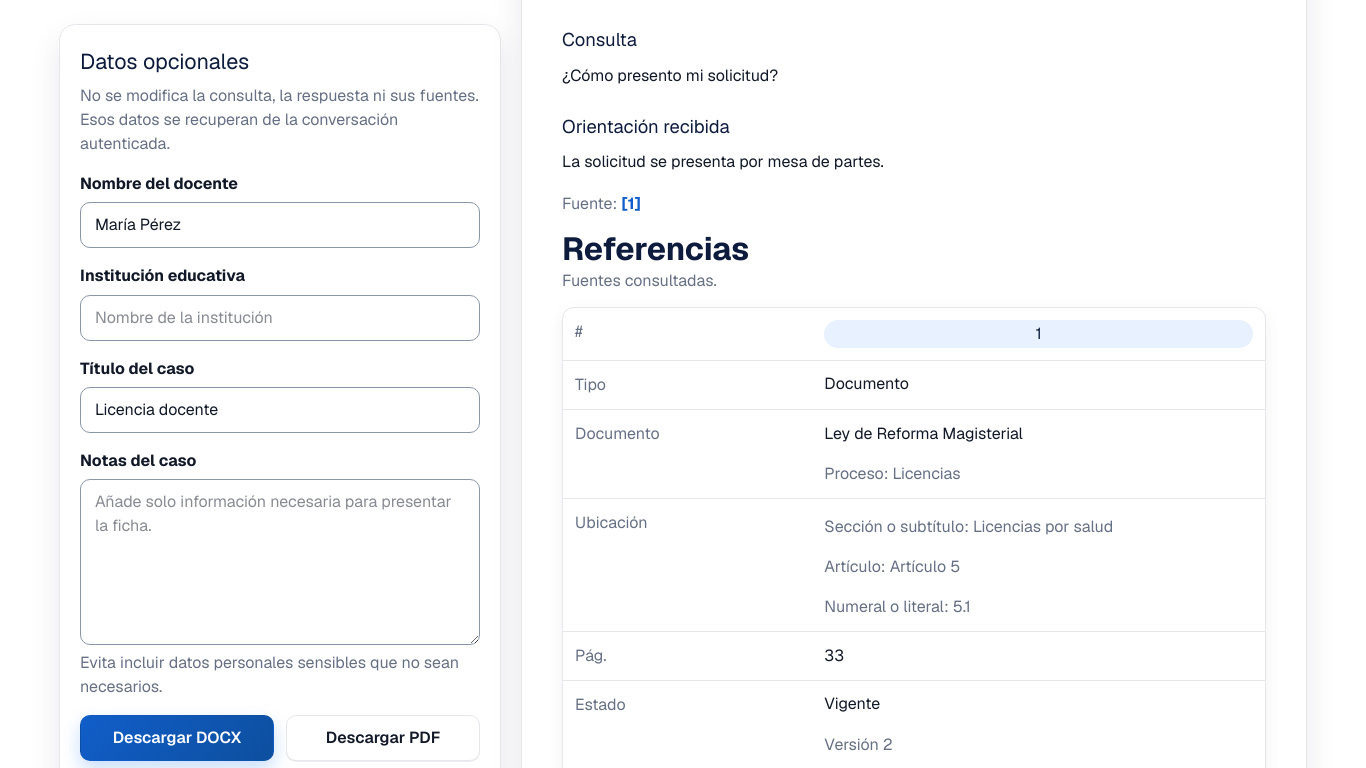
Test: OrientationPreview › keeps visible busy feedback while a PDF is being prepared
The width and height of the screenshot is (1366, 768).
(page scrolled)
Click the button "Descargar PDF". click: [383, 738]
box: x1=286 y1=715 x2=480 y2=761
(page scrolled)
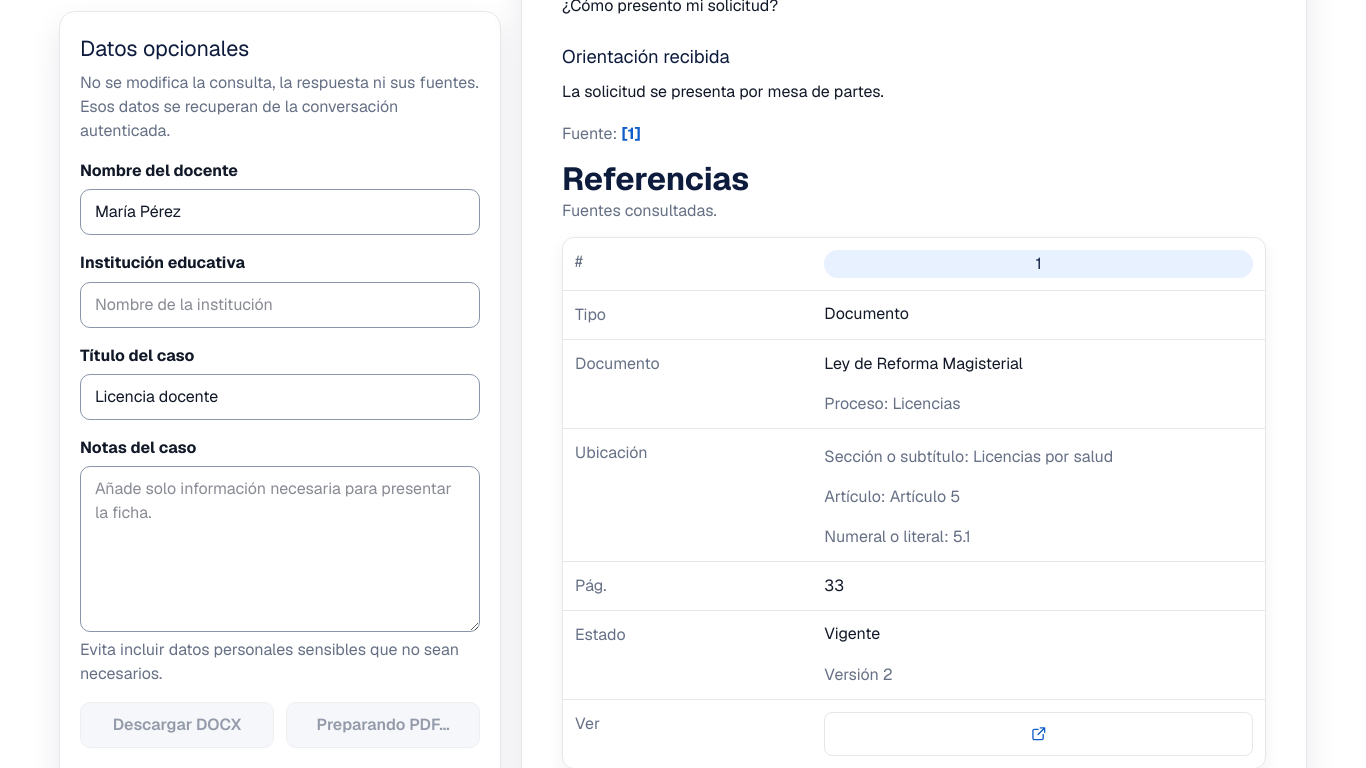
Check: the button "Preparando PDF…" is disabled, box x1=286 y1=702 x2=480 y2=748
Check: the button "Descargar DOCX" is disabled, box x1=80 y1=702 x2=274 y2=748
Submit the form named "Nombre del docente"
(page scrolled)
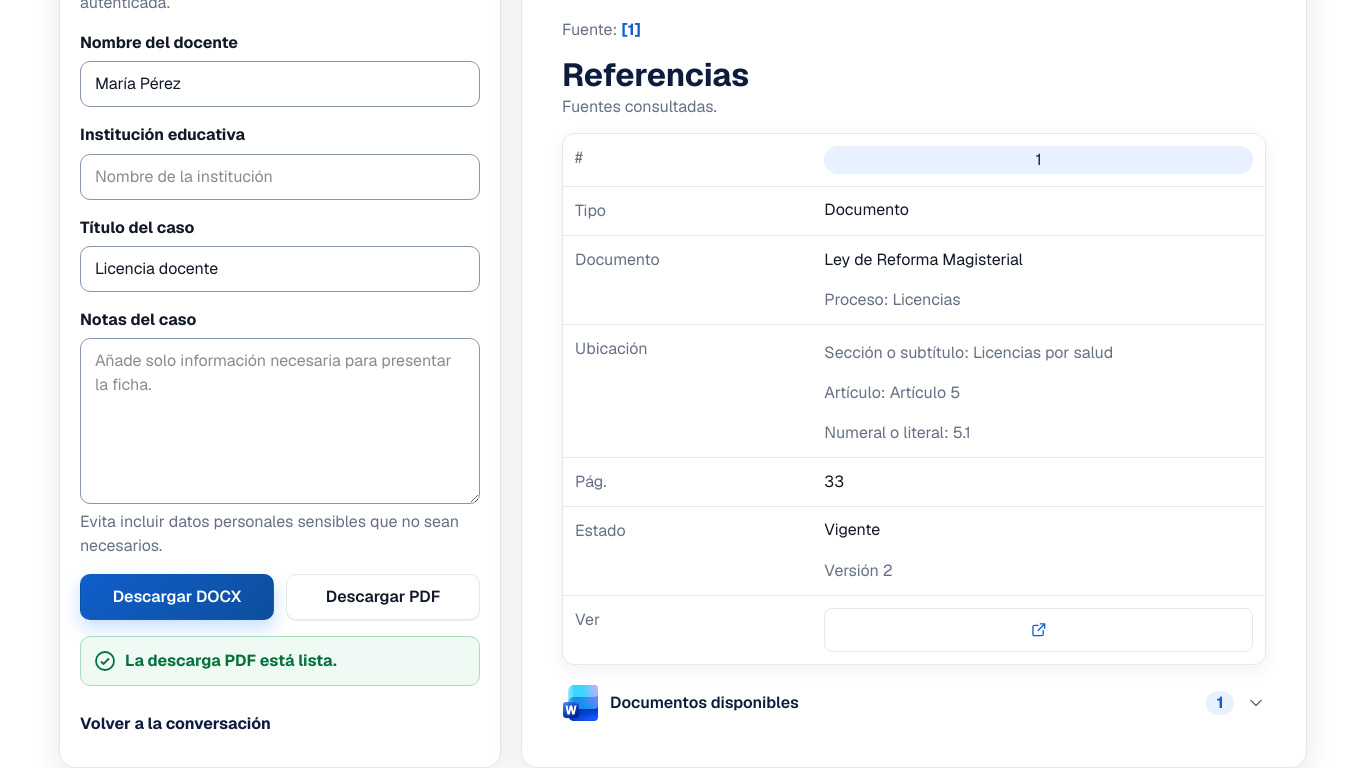
Check: the text "La descarga PDF está lista." is shown, box x1=80 y1=636 x2=480 y2=686
